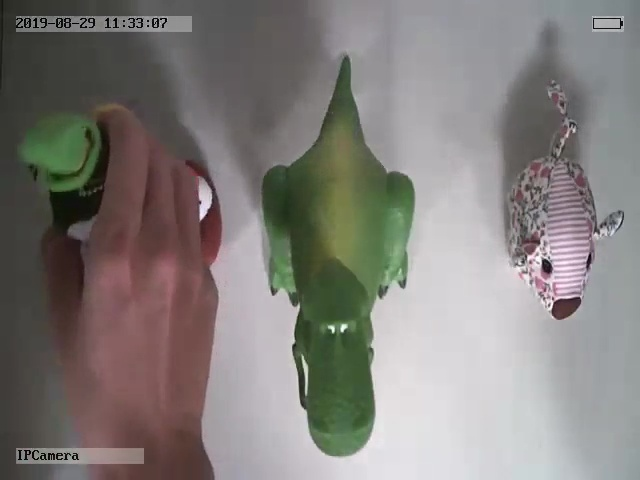pig: (506, 77, 624, 321)
rex: (261, 54, 416, 458)
